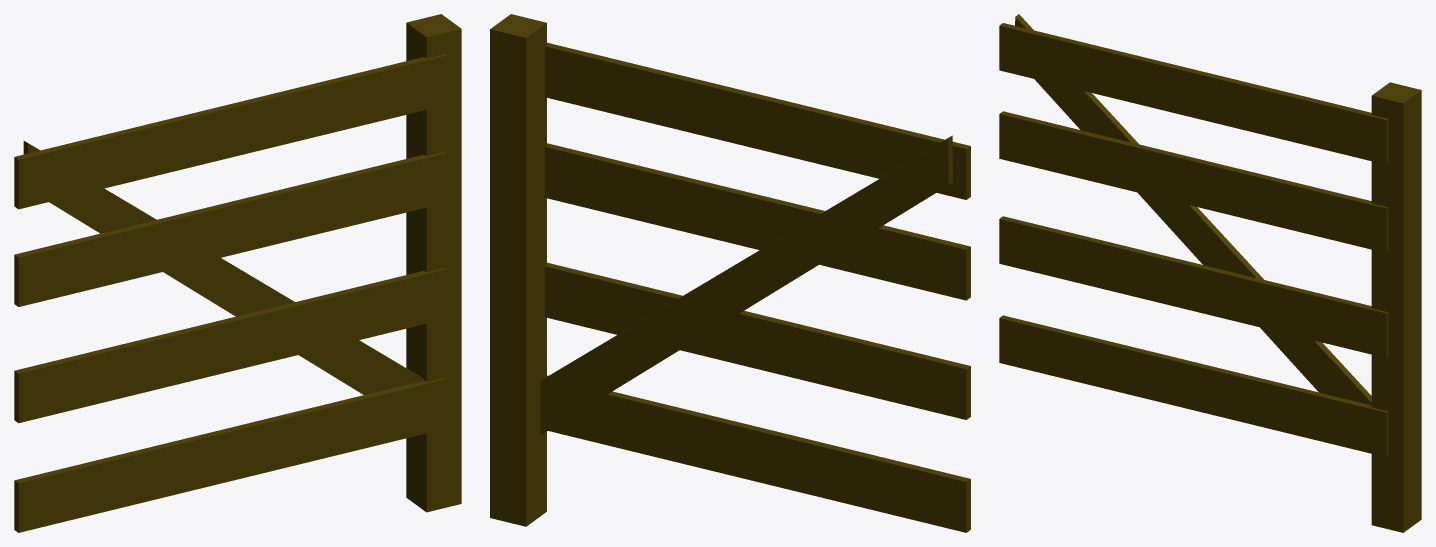
The model's file is Wooden Fence Riight Post.fbx.
3 views of the same model, side by side, from view 1: azimuth 30°, elevation 25°; view 2: azimuth 150°, elevation 25°; view 3: azimuth 330°, elevation 25° (orthographic). The views are drawn at different scales.
Visible parts, largest first — view 1: pCube23, pCube1; view 2: pCube23, pCube1; view 3: pCube23, pCube1.
Boxes of the visible parts, left/top/right/bottom form: pCube23: left=14, top=54, right=446, bottom=532; pCube1: left=406, top=14, right=461, bottom=512; pCube23: left=540, top=42, right=970, bottom=532; pCube1: left=490, top=14, right=546, bottom=526; pCube23: left=999, top=14, right=1388, bottom=457; pCube1: left=1371, top=82, right=1421, bottom=532.
Bounding box in the file's own units: 2.53 × 2.59 × 0.219.
